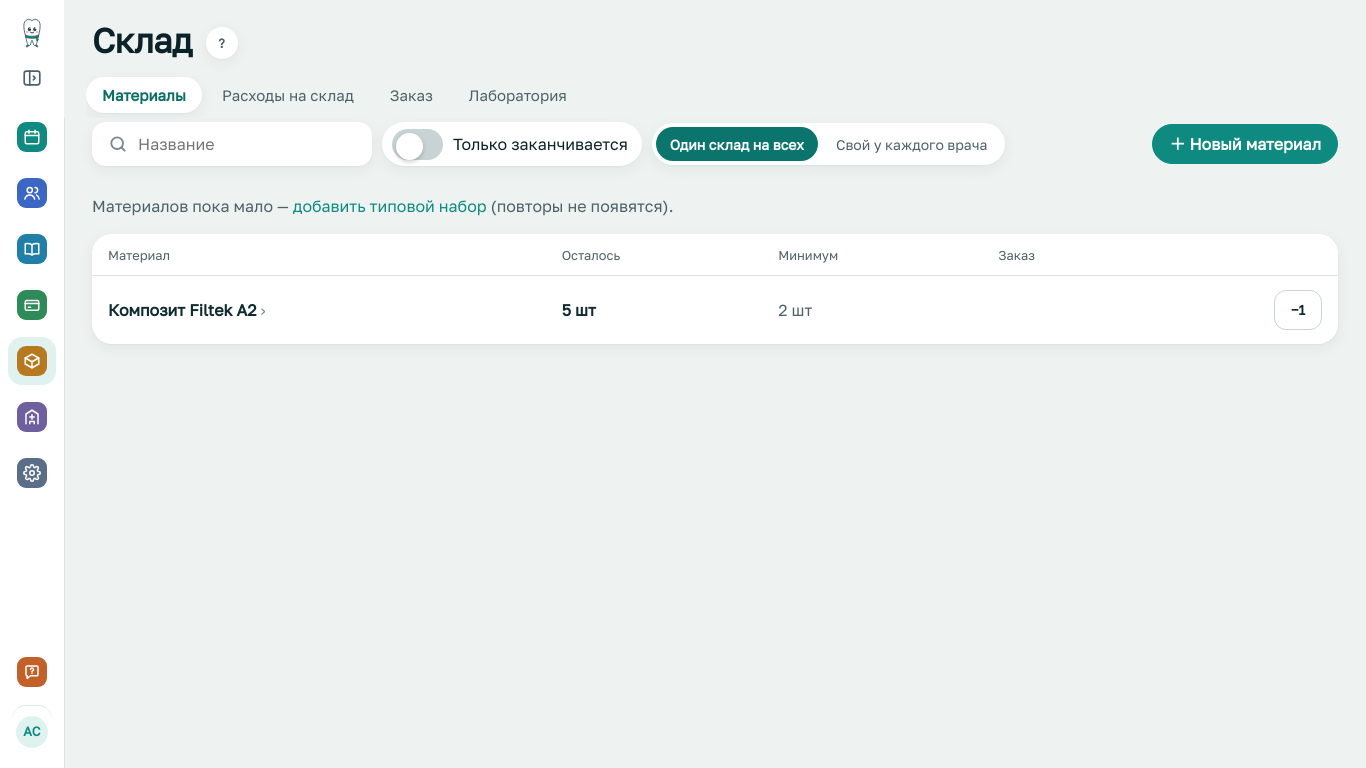
Test: карточка материала: где берём и цены у поставщиков — дешевле сверху
Click the button "Композит Filtek A2".
click(187, 310)  # box x1=108 y1=298 x2=266 y2=322
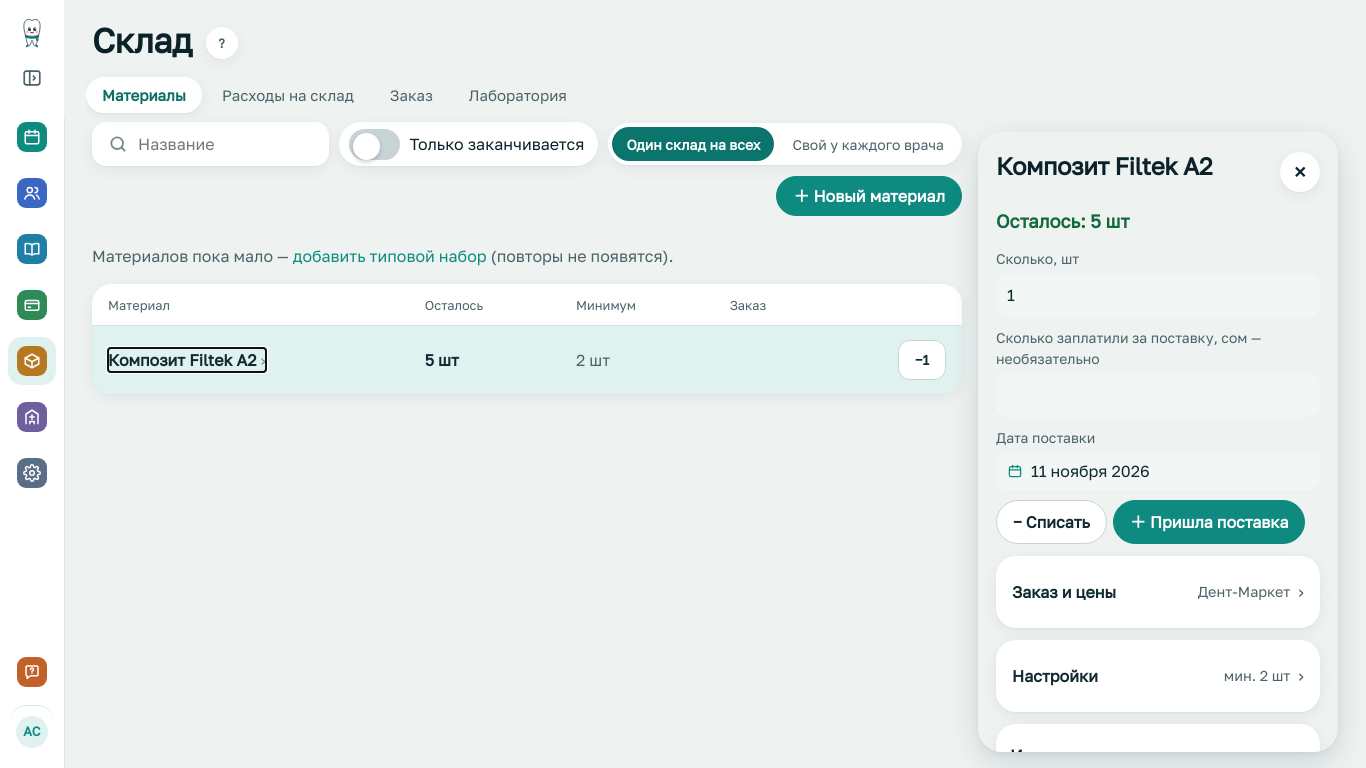
Click the button "Заказ и цены Дент-Маркет ›".
click(1064, 592)  # box x1=1010 y1=570 x2=1306 y2=614
(page scrolled)
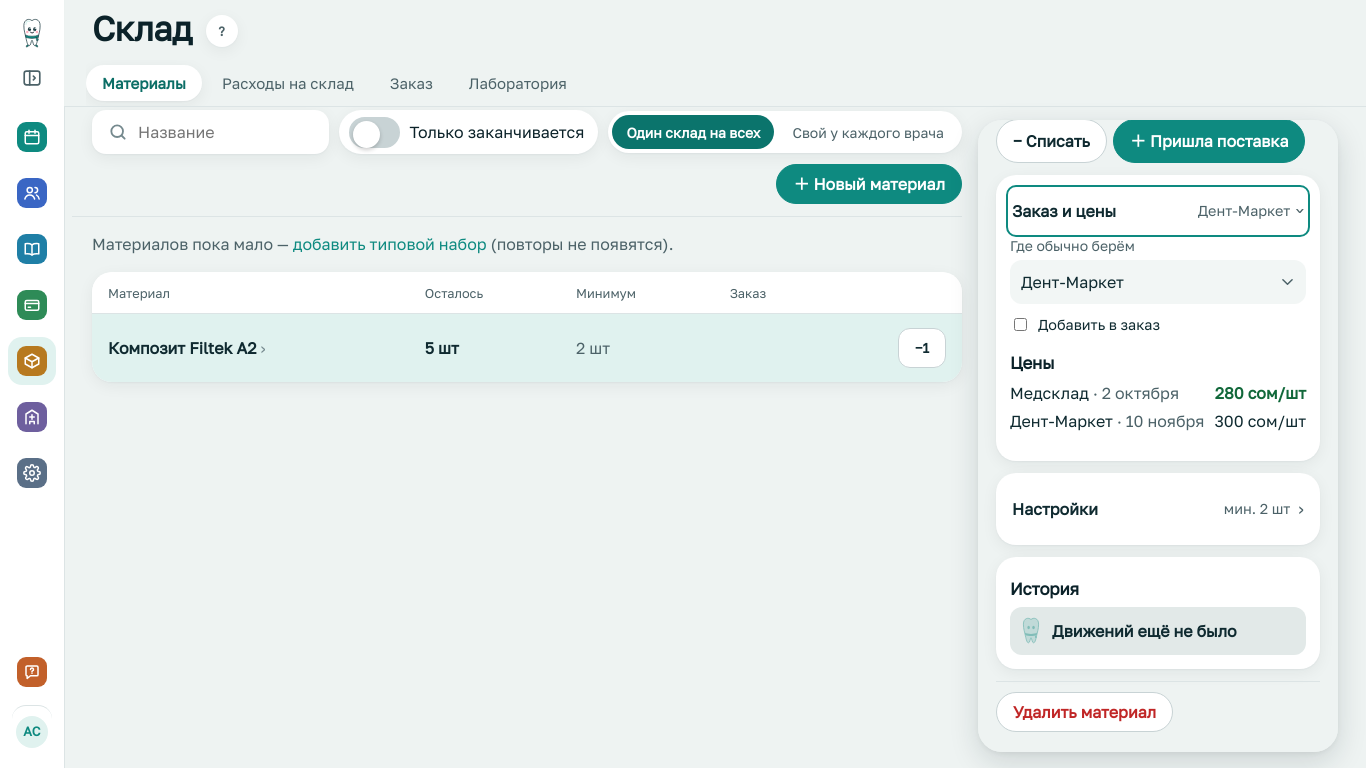
Expected: the list item "Медсклад · 2 октября 280 сом/шт" is shown, x1=1010 y1=381 x2=1306 y2=405
Expected: the list item "Дент-Маркет · 10 ноября 300 сом/шт" is shown, x1=1010 y1=409 x2=1306 y2=433
